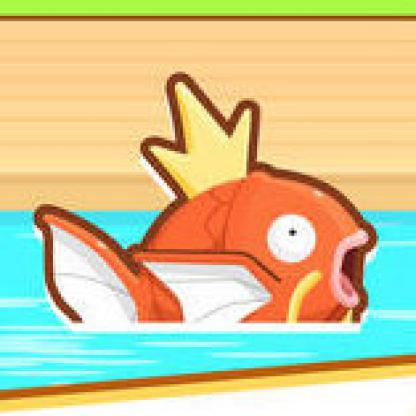Magikarp: (1, 1, 416, 416)
